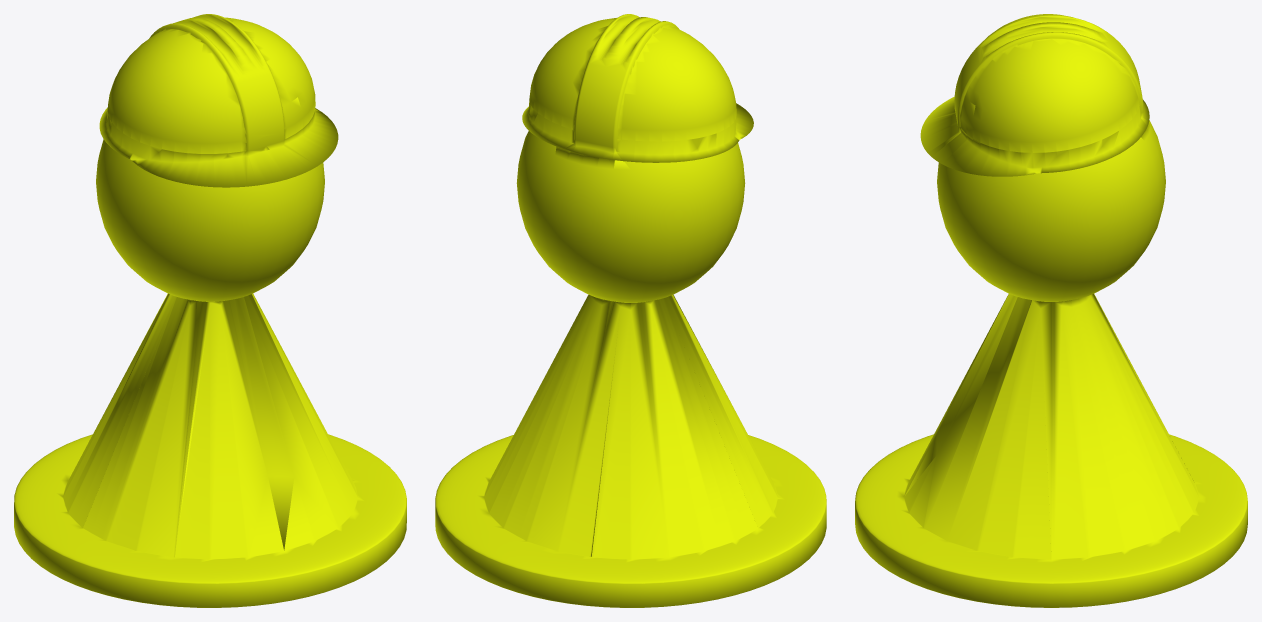
The model's file is Engenheiro_Químico.fbx.
3 renders of one model, left to right at view 1: azimuth 30°, elevation 25°; view 2: azimuth 150°, elevation 25°; view 3: azimuth 270°, elevation 25°, orthographic.
Visible parts, largest first — view 1: Eng. Químico - Amiraldo; view 2: Eng. Químico - Amiraldo; view 3: Eng. Químico - Amiraldo.
Part boxes in pixels (x1,y1,x2,y2): Eng. Químico - Amiraldo: [14, 14, 406, 607]; Eng. Químico - Amiraldo: [435, 14, 826, 607]; Eng. Químico - Amiraldo: [855, 14, 1247, 607].
Bounding box in the file's own units: 1028 × 1456 × 1028.
